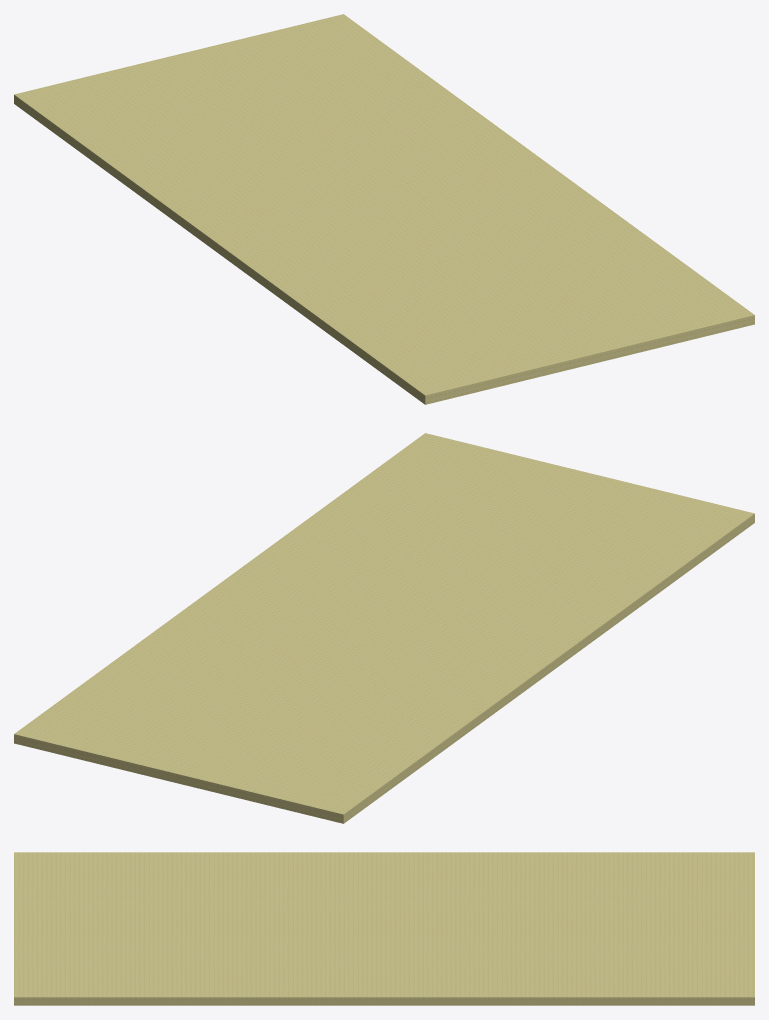
The model's file is DesGr1.glb.
3 renders of one model, top to bottom at view 1: azimuth 30°, elevation 25°; view 2: azimuth 150°, elevation 25°; view 3: azimuth 270°, elevation 25°, orthographic. The views are drawn at different scales.
Visible parts, largest first — view 1: DesGr1; view 2: DesGr1; view 3: DesGr1.
Boxes of the visible parts, bbox=[...] form: DesGr1: bbox=[14, 14, 754, 404]; DesGr1: bbox=[14, 433, 754, 823]; DesGr1: bbox=[14, 852, 754, 1005].
Size of the model in its own units: 9446 by 256 by 20410.
1 material, 1 textured.
